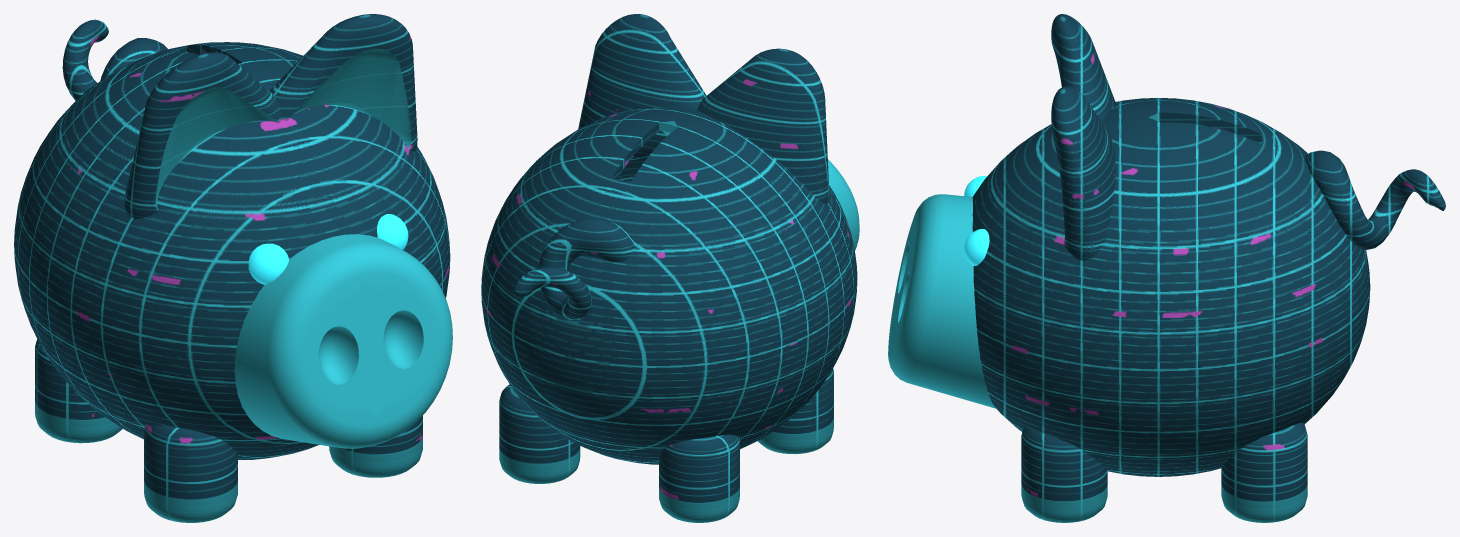
The model's file is hologram-og-v1-complete.fbx.
The picture shows the model from 3 angles, left to right: view 1: azimuth 30°, elevation 25°; view 2: azimuth 150°, elevation 25°; view 3: azimuth 270°, elevation 25°; orthographic projection. The views are drawn at different scales.
Visible parts, largest first — view 1: Body, Snout, Ears, Legs, Tail, EyePreview; view 2: Body, Ears, Legs, Tail, Snout; view 3: Body, Snout, Legs, Ears, Tail, EyePreview.
Part boxes in pixels (x1,y1,x2,y2): Body: [14, 42, 450, 459]; Snout: [234, 234, 452, 448]; Ears: [124, 14, 417, 218]; Legs: [35, 339, 422, 522]; Tail: [62, 19, 167, 100]; EyePreview: [248, 214, 408, 284]; Body: [481, 107, 857, 464]; Ears: [578, 14, 829, 203]; Legs: [499, 368, 833, 522]; Tail: [513, 217, 634, 321]; Snout: [828, 159, 859, 250]; Body: [972, 97, 1370, 476]; Snout: [888, 194, 996, 408]; Legs: [1021, 422, 1307, 522]; Ears: [1051, 14, 1115, 260]; Tail: [1305, 150, 1445, 249]; EyePreview: [964, 176, 989, 265].
Size of the model in its own units: 1200 by 1397 by 1708.
3 materials, 2 textured.
